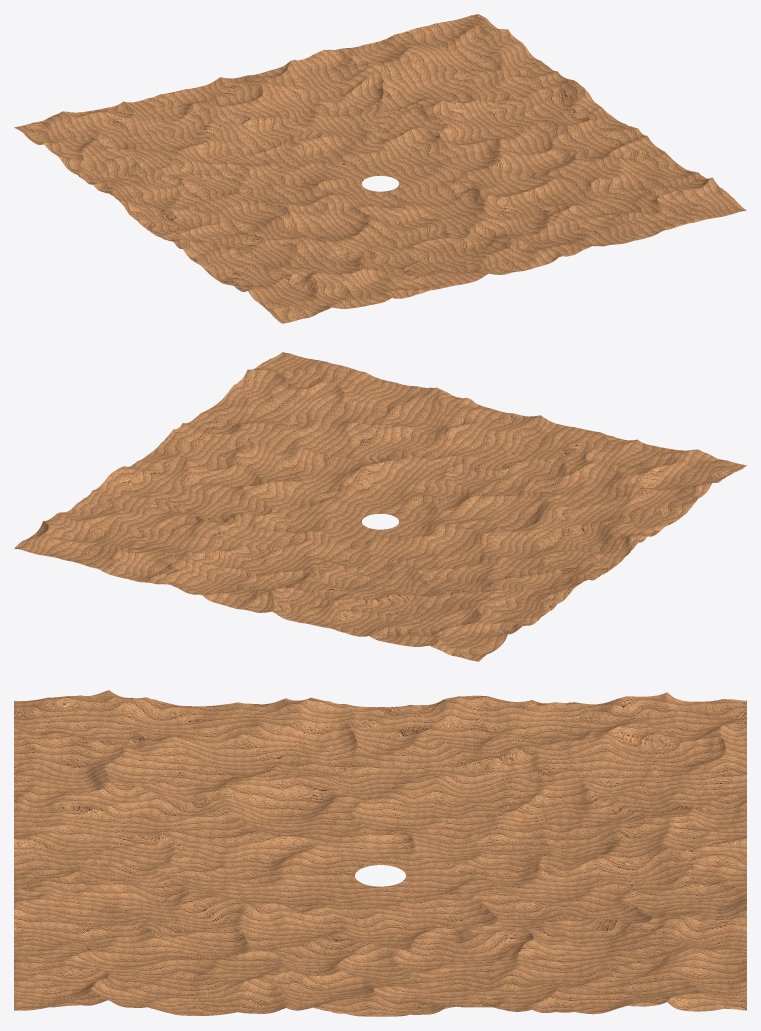
The model's file is station_space03.glb.
3 renders of one model, top to bottom at view 1: azimuth 30°, elevation 25°; view 2: azimuth 150°, elevation 25°; view 3: azimuth 270°, elevation 25°, orthographic. The views are drawn at different scales.
Parts seen in each view (by area): view 1: land_out_station_space03; view 2: land_out_station_space03; view 3: land_out_station_space03.
Boxes of the visible parts, <box> form: land_out_station_space03: <box>14,14,746,323</box>; land_out_station_space03: <box>14,352,746,661</box>; land_out_station_space03: <box>14,690,746,1016</box>.
Bounding box in the file's own units: 3002 × 150 × 3002.
Materials: 1 (1 with a texture image).
